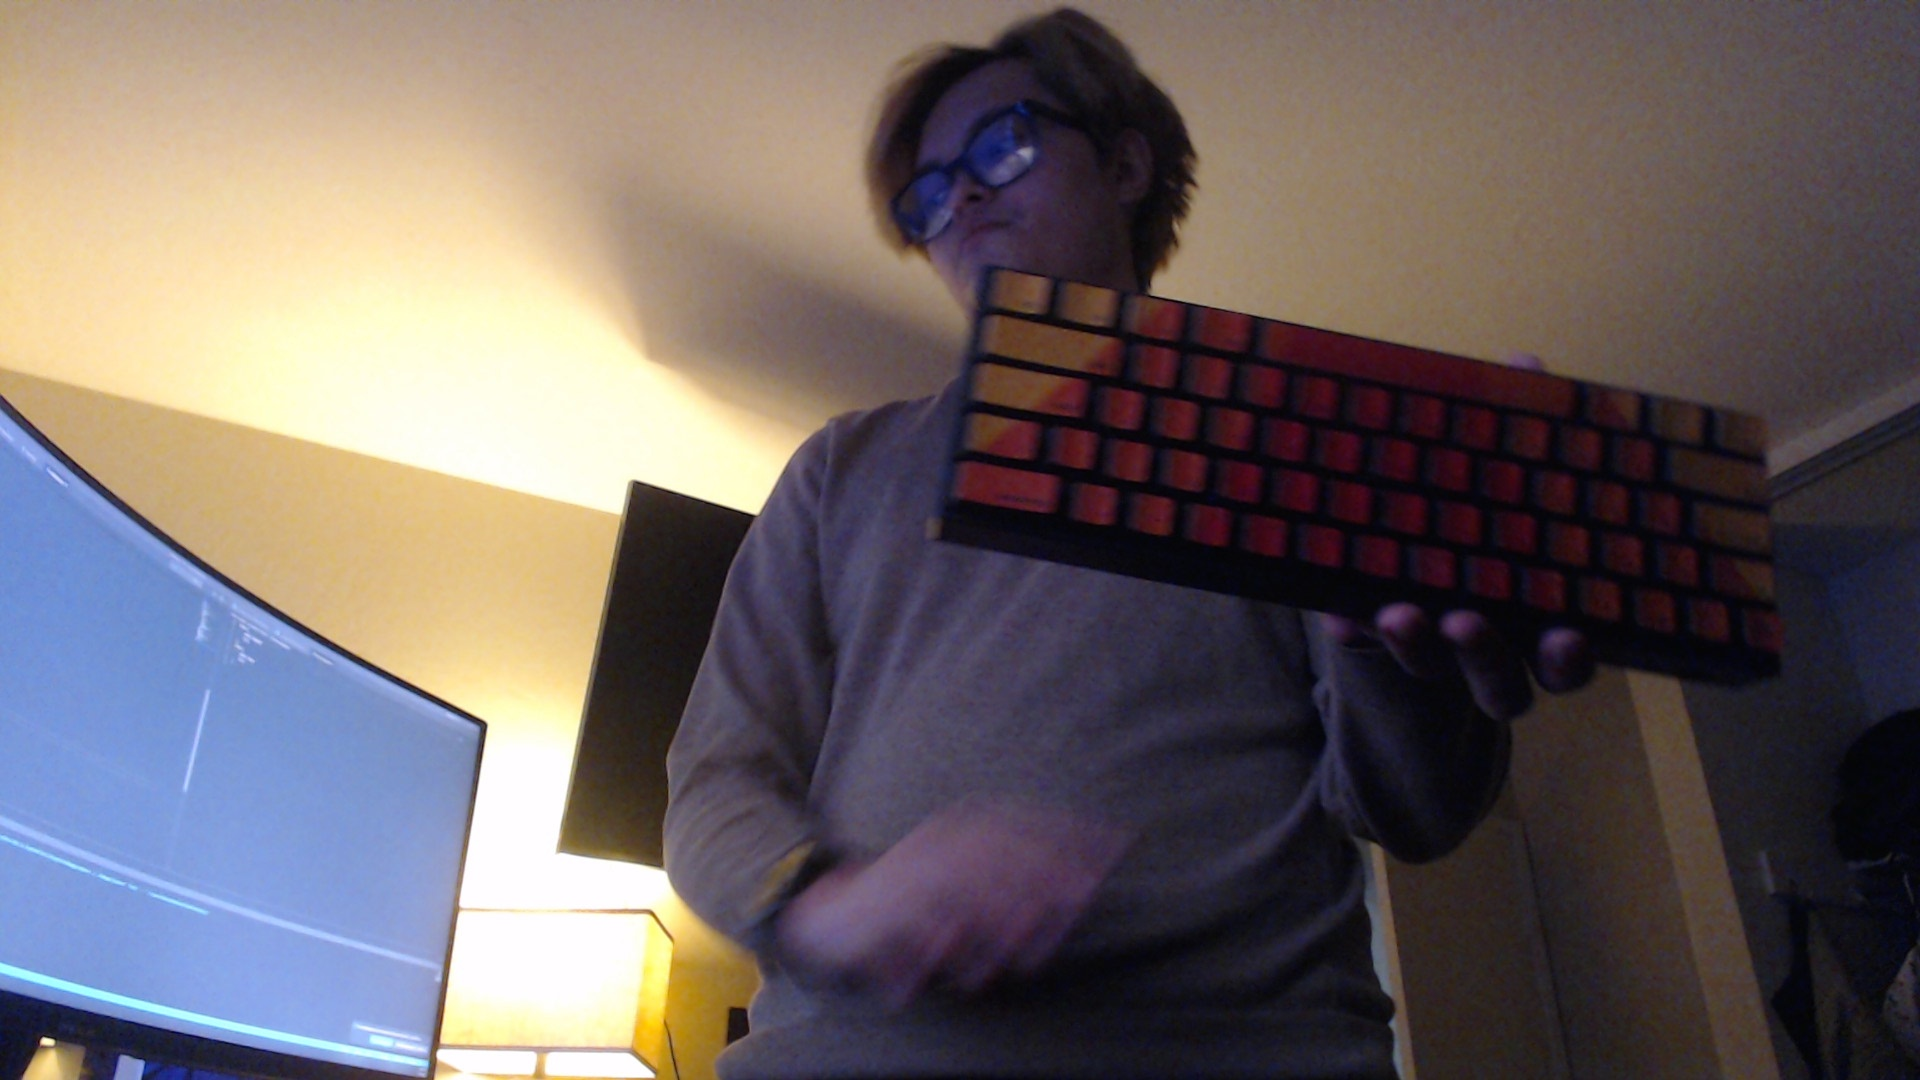keyboard: (911, 262, 1789, 695)
